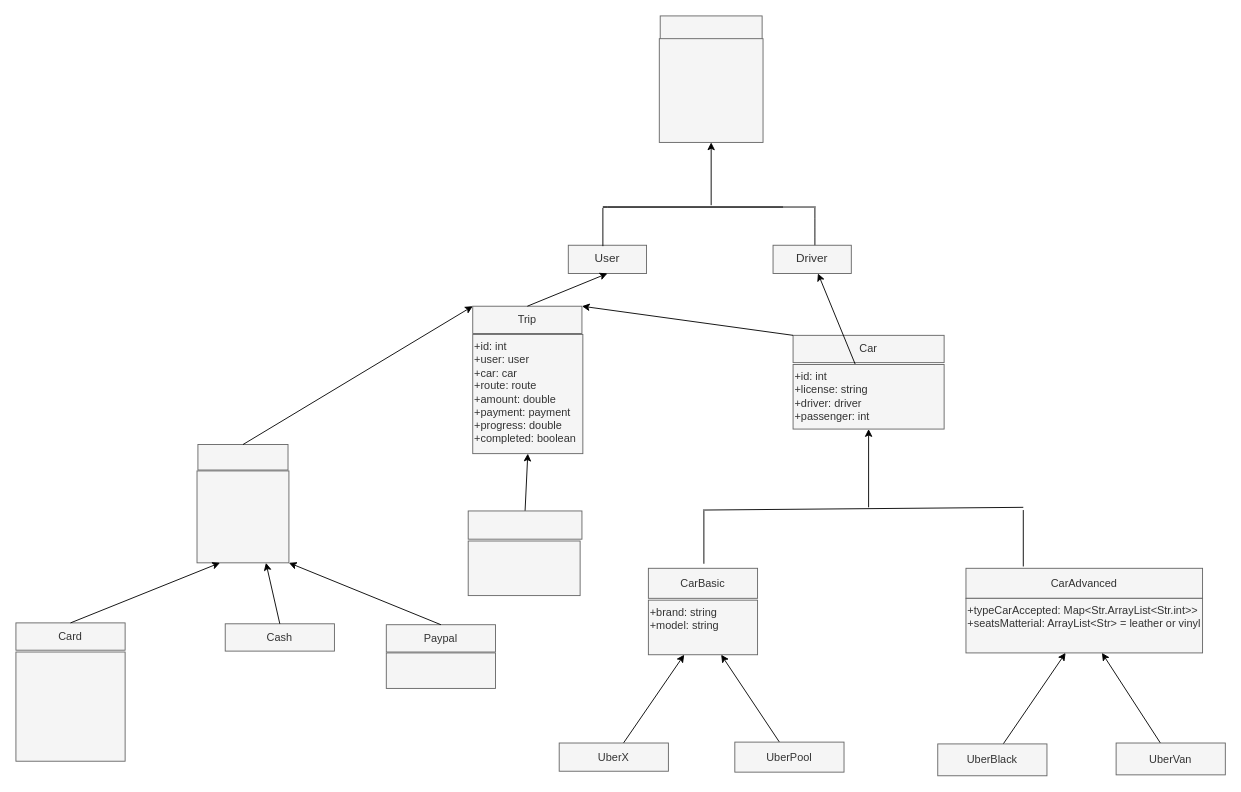
Some shapes in this 1241 by 792 pixel diagram are drawn without their labels. Each missing label, with the centre of its shape:
+email: string: the point at 440,670
+id: int: the point at 242,516
+id: int +name: str +document: int +email: str +password: int: the point at 710,90
+id: int +start: [] +end:[]: the point at 523,568
+number: int +cvv: int +date: string: the point at 70,706
Account: the point at 710,27
Payments: the point at 242,457
Route: the point at 524,524
